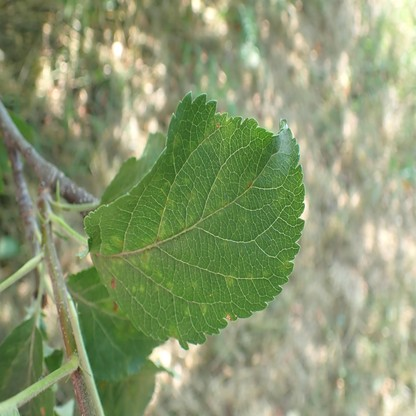scab: (108, 117, 290, 335)
